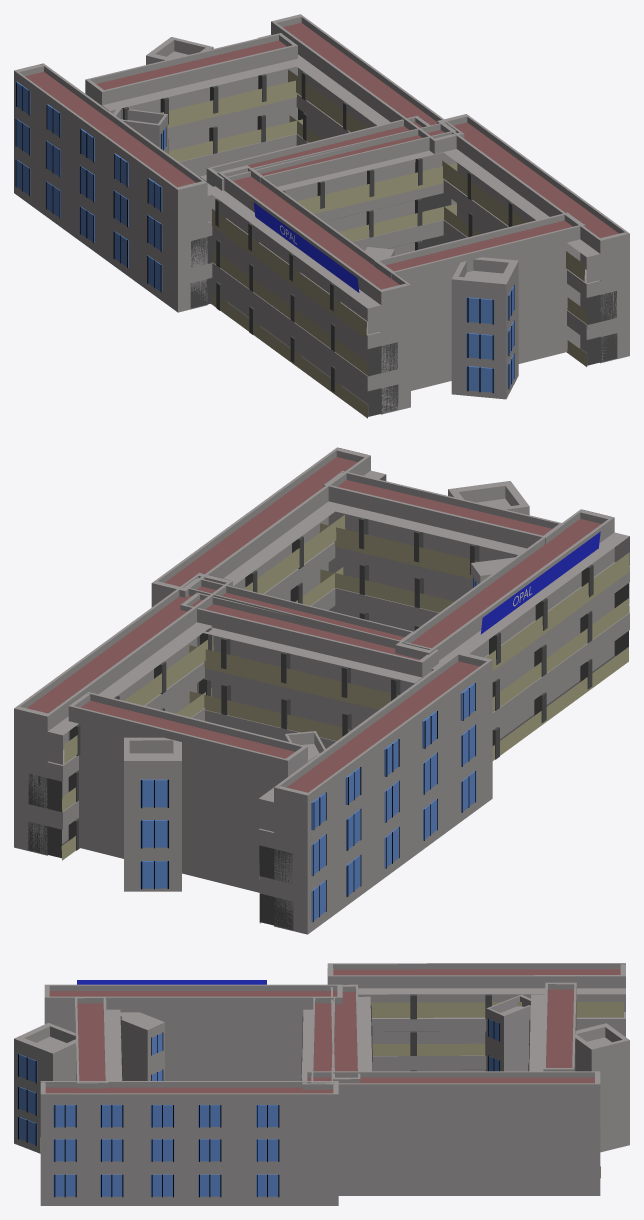
File: opalnamed.glb
The picture shows the model from 3 angles, top to bottom: view 1: azimuth 30°, elevation 25°; view 2: azimuth 150°, elevation 25°; view 3: azimuth 270°, elevation 25°; orthographic projection. The views are drawn at different scales.
Visible parts, largest first — view 1: Cube.201, Cube.001, Cube.013, Cube.003, Cube.008, Cube.014, Cube.007, Cube.042, Cube.012, Plane, Cube, Cube.049 (+3 smaller); view 2: Cube.001, Cube.201, Cube.003, Cube.007, Cube.012, Cube.008, Cube.013, Cube.049, Cube.014, Plane, Cube.042, Cube.050 (+2 smaller); view 3: Cube.007, Cube.013, Cube.001, Cube.201, Cube.049, Cube.003, Cube.008, Cube.042, Cube.012, Cube, Cube.009, Cube.014 (+19 smaller).
Part boxes in pixels (x1,y1,x2,y2): Cube.201: (207,165,410,418); Cube.001: (14,63,217,312); Cube.013: (437,114,629,366); Cube.003: (85,33,305,176); Cube.008: (374,212,585,390); Cube.014: (249,122,457,255); Cube.007: (258,14,464,248); Cube.042: (451,257,518,399); Cube.012: (200,115,430,190); Plane: (253,202,359,292); Cube: (113,108,167,153); Cube.049: (146,37,213,64); Cube.001: (258,651,492,934); Cube.201: (395,509,629,760); Cube.003: (68,692,316,892); Cube.007: (14,572,232,860); Cube.012: (180,592,438,748); Cube.008: (319,471,564,631); Cube.013: (151,447,386,610); Cube.049: (124,737,181,891); Cube.014: (183,577,416,648); Plane: (480,531,600,634); Cube.042: (448,481,529,515); Cube.050: (140,779,169,808); Cube.007: (302,1071,600,1195); Cube.013: (40,1081,338,1205); Cube.001: (327,963,625,1071); Cube.201: (44,984,342,1080); Cube.049: (575,1023,629,1152); Cube.003: (528,982,576,1071); Cube.008: (75,996,123,1088); Cube.042: (14,1023,75,1153); Cube.012: (330,984,372,1083); Cube: (486,994,530,1071); Cube.009: (120,1012,164,1080); Cube.014: (301,996,335,1083).
Bounding box in the file's own units: 24.46 × 9.99 × 48.05.
